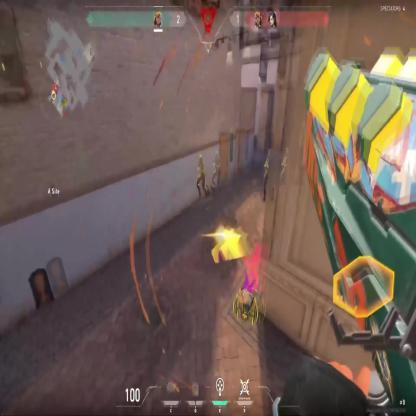enemy: (262, 148, 272, 200), (197, 154, 208, 196)
enemy_head: (268, 150, 272, 159), (199, 154, 203, 162)
